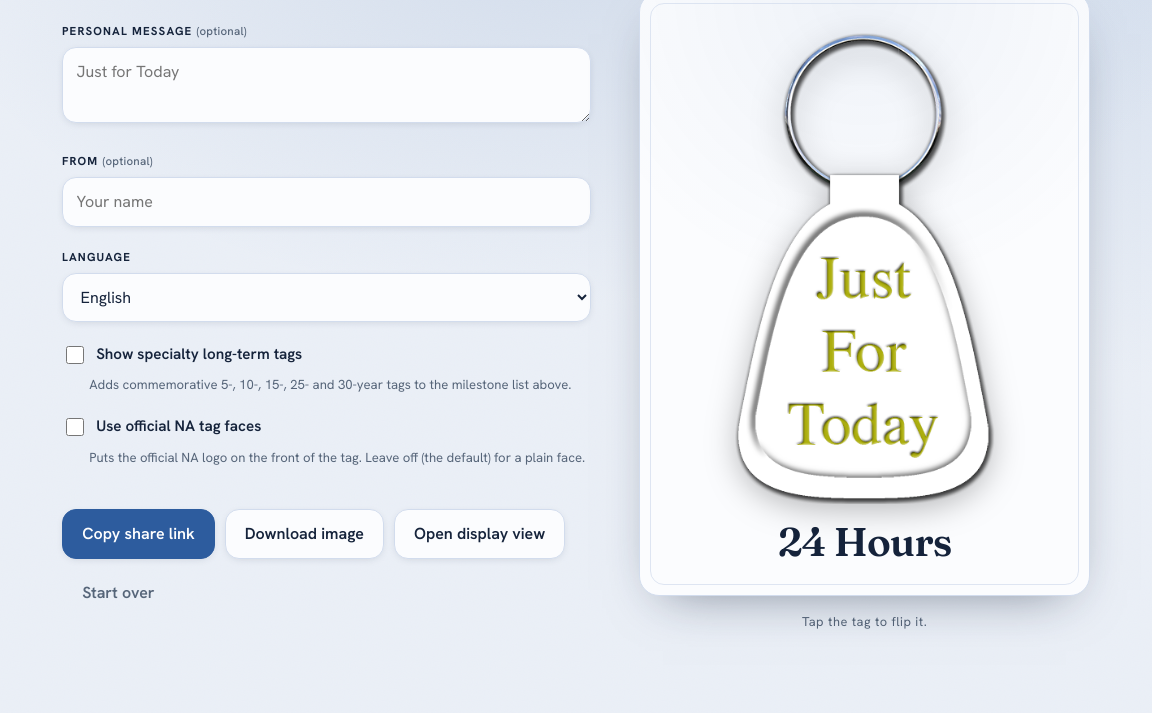
it: Builder › copy share link writes a fragment URL to the clipboard
(page scrolled)
Click the button "Copy share link". click: (138, 534)
box: [62,509,215,559]
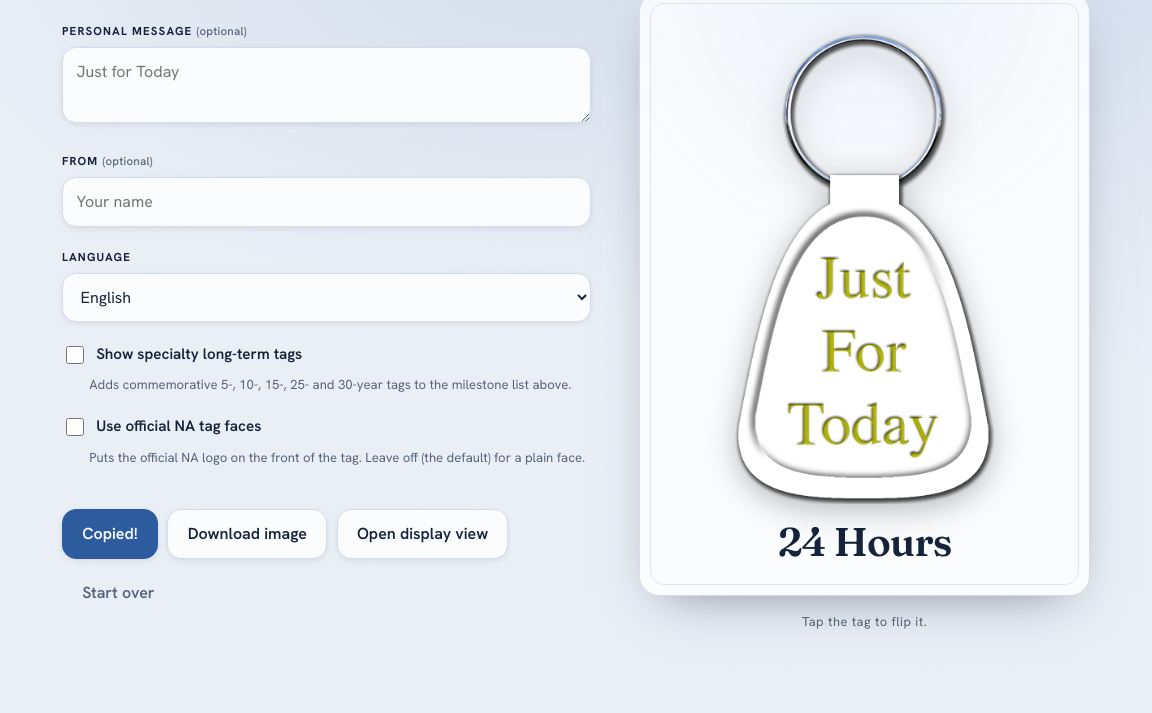
Now the button "Copied!" is shown, box [62,509,158,559]
